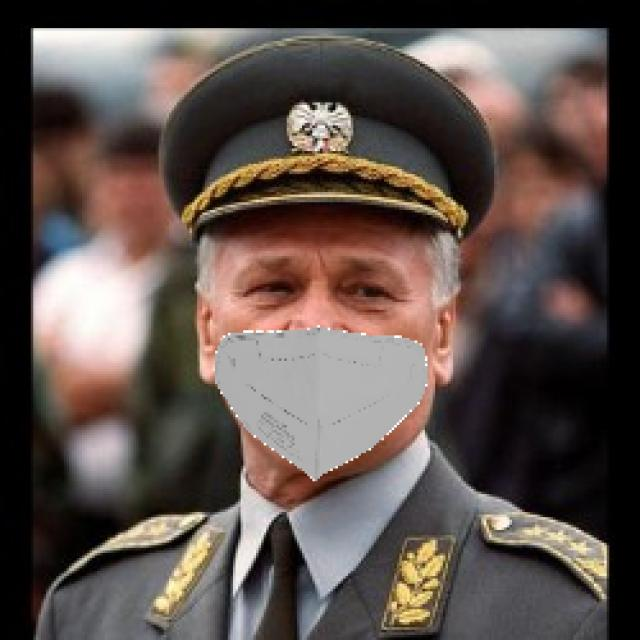mask: (211, 300, 461, 491)
